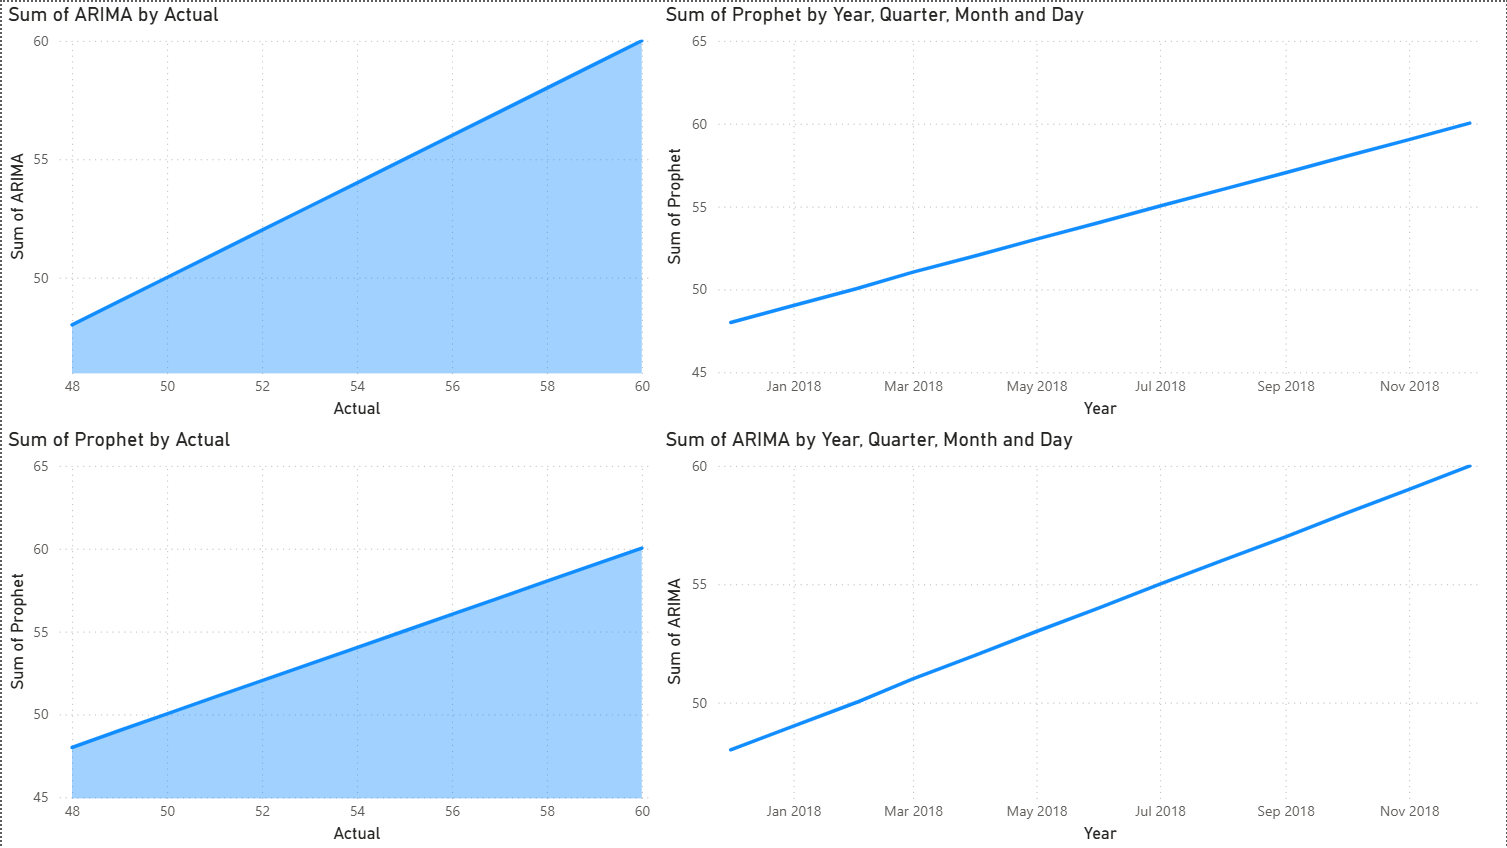

The page's visual inventory and layout, read from the dashboard file:
{"tool":"powerbi","page":{"name":"Page 2: Forecast Performance","canvas":[1280,720],"ordinal":1},"visuals":[{"type":"lineChart","fields":{"Category":["monthly_forecasts.order_date.Variation.Date Hierarchy.Year","monthly_forecasts.order_date.Variation.Date Hierarchy.Quarter","monthly_forecasts.order_date.Variation.Date Hierarchy.Month","monthly_forecasts.order_date.Variation.Date Hierarchy.Day"],"Y":["Sum(monthly_forecasts.Prophet)"]},"box":[559.2,0,720.8,359.1],"z":0},{"type":"lineChart","fields":{"Category":["monthly_forecasts.order_date.Variation.Date Hierarchy.Year","monthly_forecasts.order_date.Variation.Date Hierarchy.Quarter","monthly_forecasts.order_date.Variation.Date Hierarchy.Month","monthly_forecasts.order_date.Variation.Date Hierarchy.Day"],"Y":["Sum(monthly_forecasts.ARIMA)"]},"box":[559.7,361.7,720.8,359.1],"z":1000},{"type":"areaChart","fields":{"Category":["monthly_forecasts.Actual"],"Y":["Sum(monthly_forecasts.ARIMA)"]},"box":[0,0,559.7,359.1],"z":2000},{"type":"areaChart","fields":{"Category":["monthly_forecasts.Actual"],"Y":["Sum(monthly_forecasts.Prophet)"]},"box":[0,361.7,559.7,359.1],"z":3000}]}

Visuals, with their boxes in screenshot pixels (x1, y1, x2, y2), scaled from the page's 1280x720 canvas onto the 1507x848 screenshot:
lineChart - monthly_forecasts.order_date.Variation.Date Hierarchy.Year x monthly_forecasts.order_date.Variation.Date Hierarchy.Quarter: bbox=(658, 0, 1506, 423)
lineChart - monthly_forecasts.order_date.Variation.Date Hierarchy.Year x monthly_forecasts.order_date.Variation.Date Hierarchy.Quarter: bbox=(659, 426, 1506, 847)
areaChart - monthly_forecasts.Actual x Sum(monthly_forecasts.ARIMA): bbox=(0, 0, 659, 423)
areaChart - monthly_forecasts.Actual x Sum(monthly_forecasts.Prophet): bbox=(0, 426, 659, 847)
